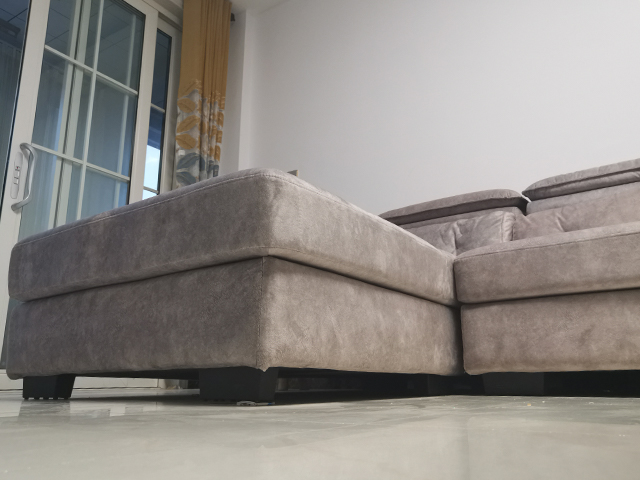curtain: (175, 1, 224, 181)
sofa: (1, 158, 640, 404)
